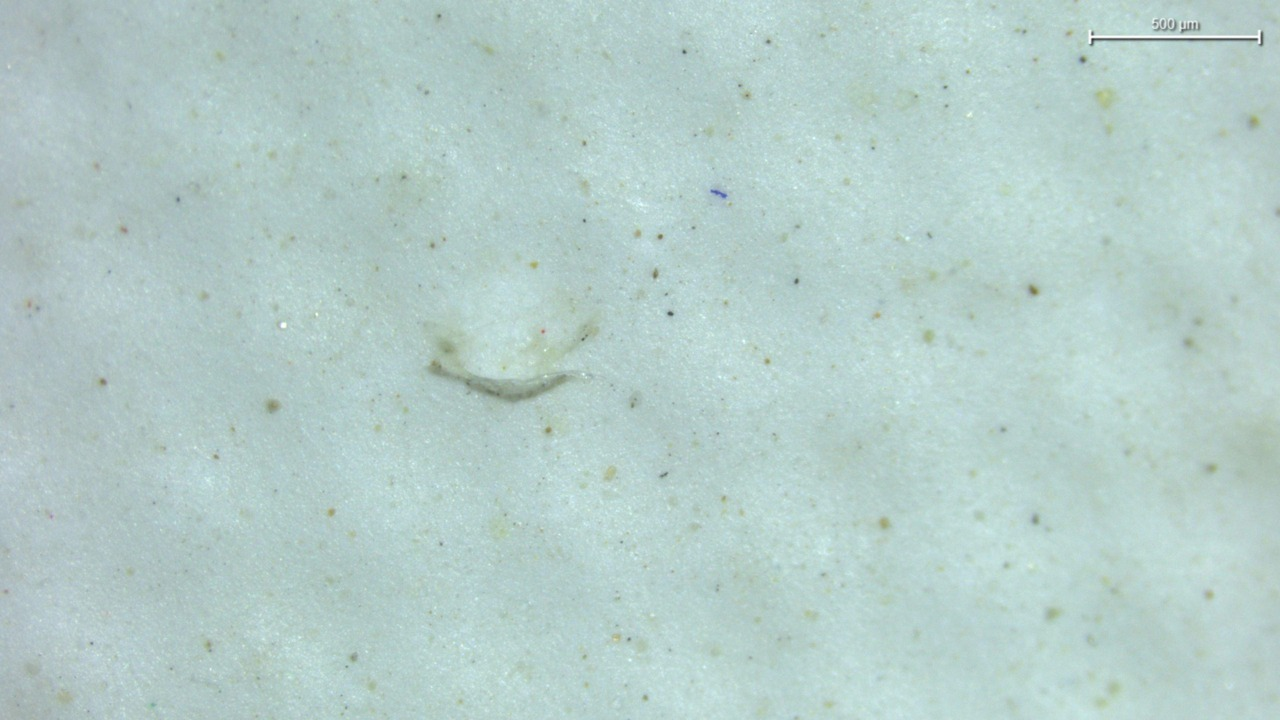microplastic_fragment: (432, 360, 585, 400)
